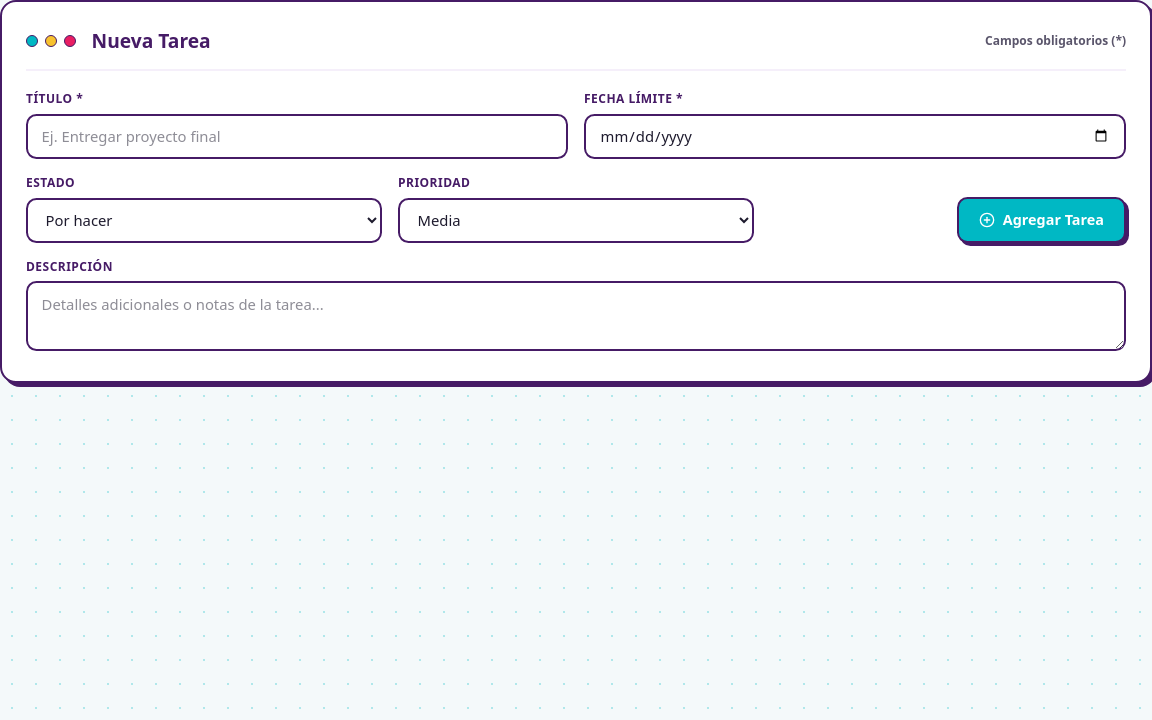
Test: TaskForm Component › muestra un mensaje de error si se envía el formulario vacío
Click the button "Agregar Tarea" at (1041, 220), box [957,197,1126,243]
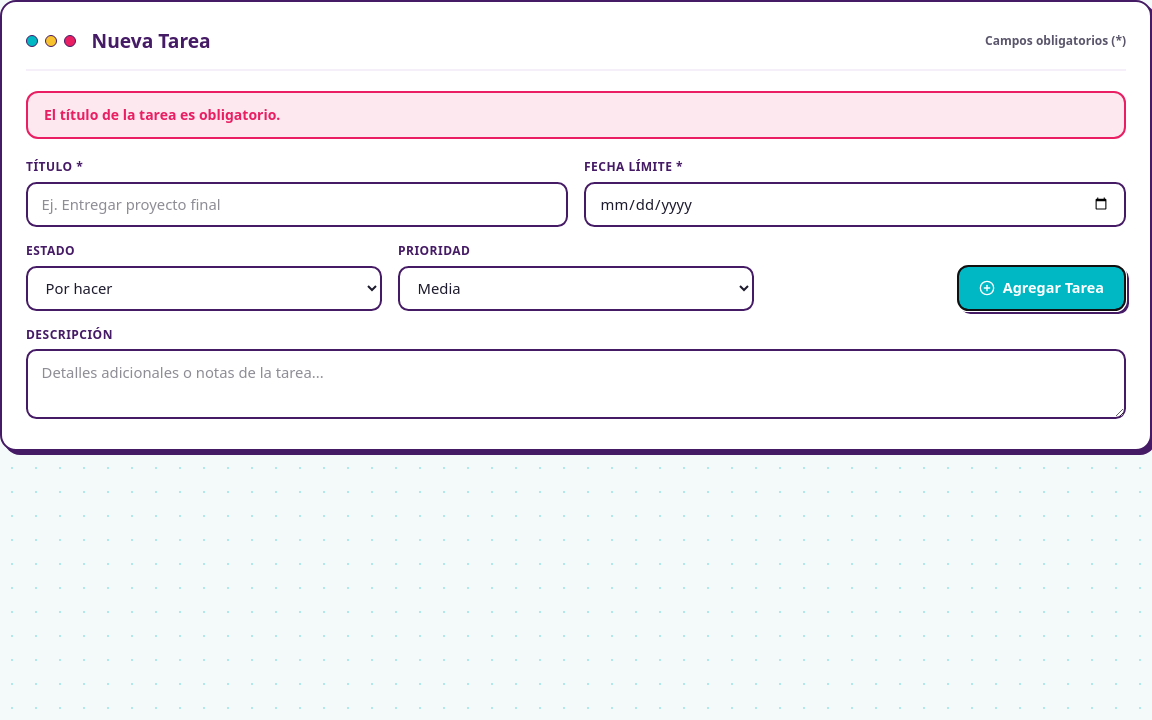
Result: the message shows "El título de la tarea es obligatorio" at [44,106,280,124]
